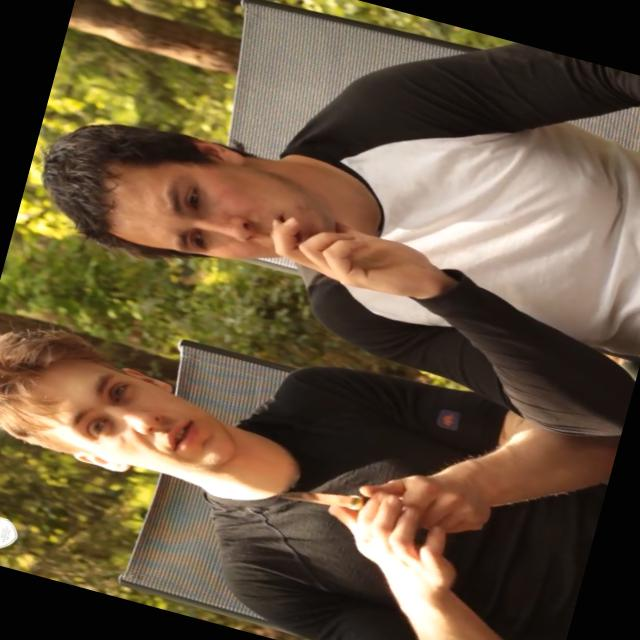knife: (253, 443, 497, 563)
